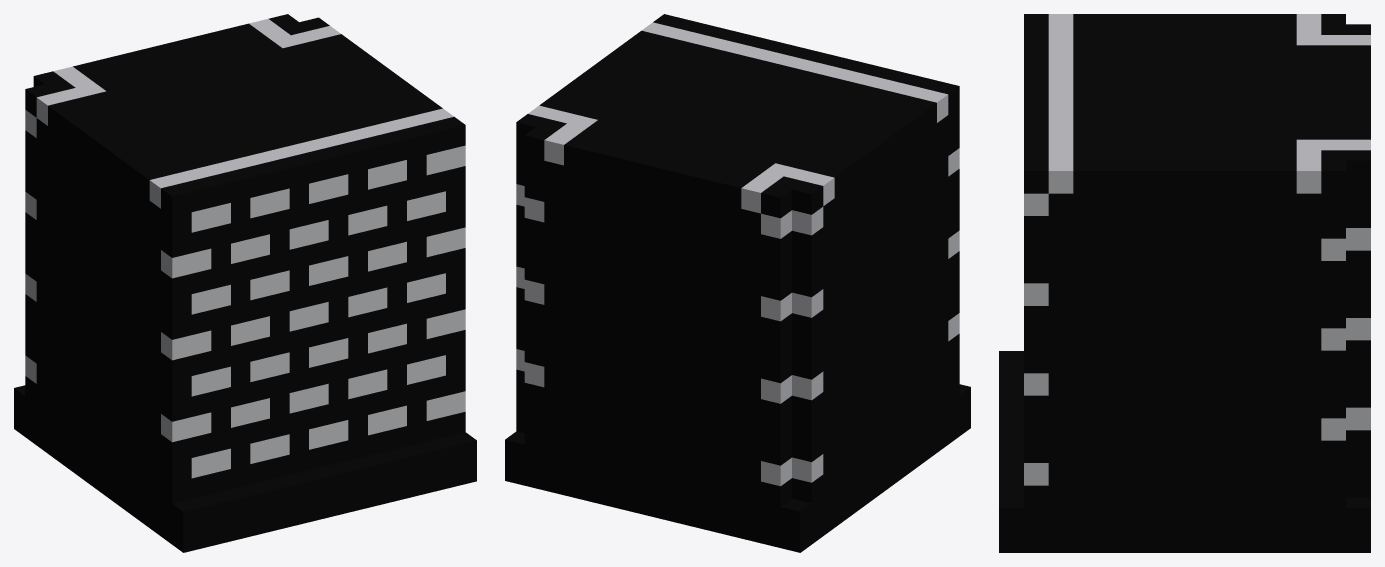
Rendered from dungeon_d_a_inner_wall_segment_b.obj.
3 renders of one model, left to right at view 1: azimuth 30°, elevation 25°; view 2: azimuth 150°, elevation 25°; view 3: azimuth 270°, elevation 25°, orthographic. The views are drawn at different scales.
Size of the model in its own units: 1.5 by 1.7 by 1.5.
1 material, 1 textured.
